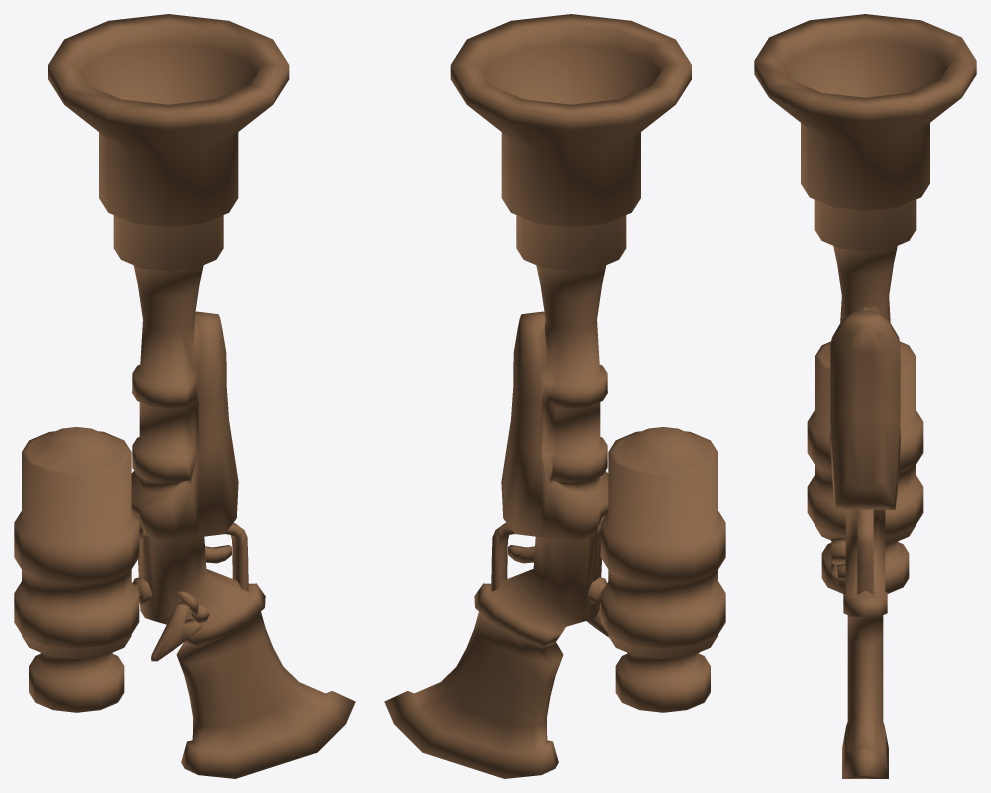
File: blunderbuss-normalized.fbx
The picture shows the model from 3 angles, left to right: view 1: azimuth 30°, elevation 25°; view 2: azimuth 150°, elevation 25°; view 3: azimuth 270°, elevation 25°; orthographic projection. The views are drawn at different scales.
Parts seen in each view (by area): view 1: Blunderbuss.009; view 2: Blunderbuss.009; view 3: Blunderbuss.009.
Boxes of the visible parts, bbox=[...] form: Blunderbuss.009: bbox=[14, 14, 355, 778]; Blunderbuss.009: bbox=[384, 14, 725, 778]; Blunderbuss.009: bbox=[754, 14, 976, 778].
Size of the model in its own units: 0.4176 by 0.86 by 0.262.
